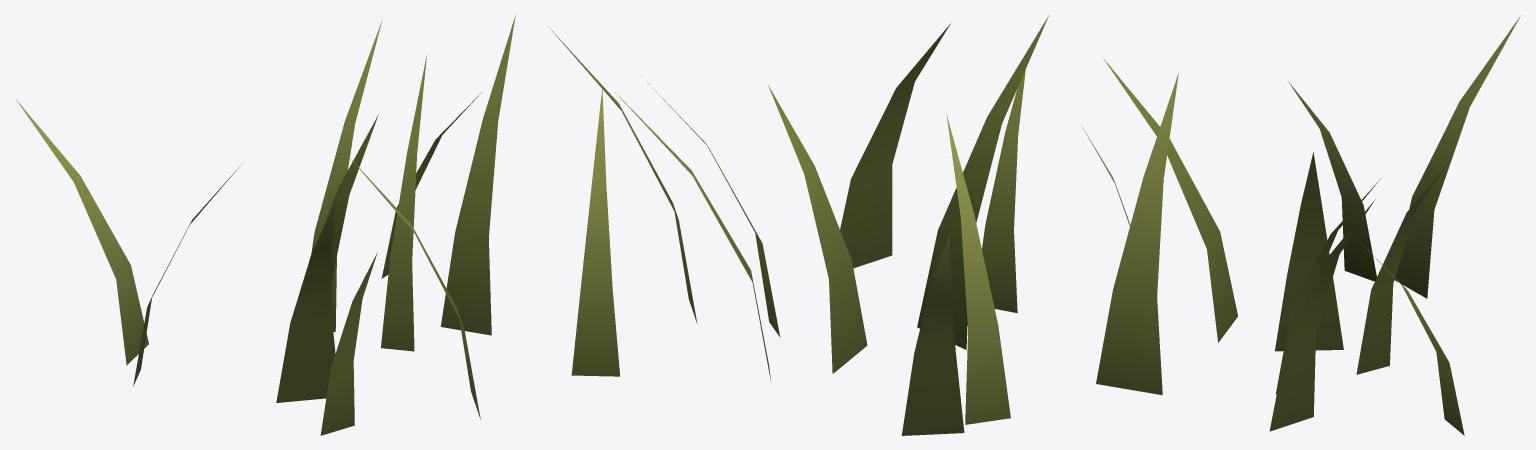
File: forest_grass_b.glb
3 views of the same model, side by side, from view 1: azimuth 30°, elevation 25°; view 2: azimuth 150°, elevation 25°; view 3: azimuth 270°, elevation 25° (orthographic). The views are drawn at different scales.
Visible parts, largest first — view 1: Keep_mesh; view 2: Keep_mesh; view 3: Keep_mesh.
Part boxes in pixels (box(x1,y1,x2,y2)): Keep_mesh: box(16, 15, 515, 435); Keep_mesh: box(545, 15, 1048, 435); Keep_mesh: box(1082, 15, 1520, 435).
Bounding box in the file's own units: 0.5232 × 0.3077 × 0.456.
